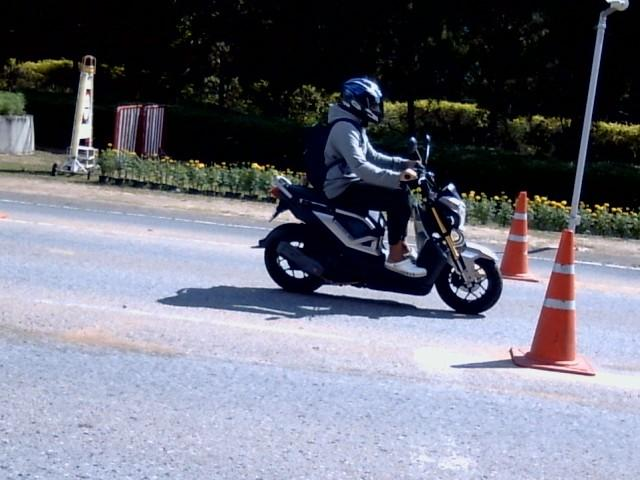helmet: (338, 70, 383, 120)
motor: (255, 165, 502, 313)
person: (321, 77, 425, 275)
